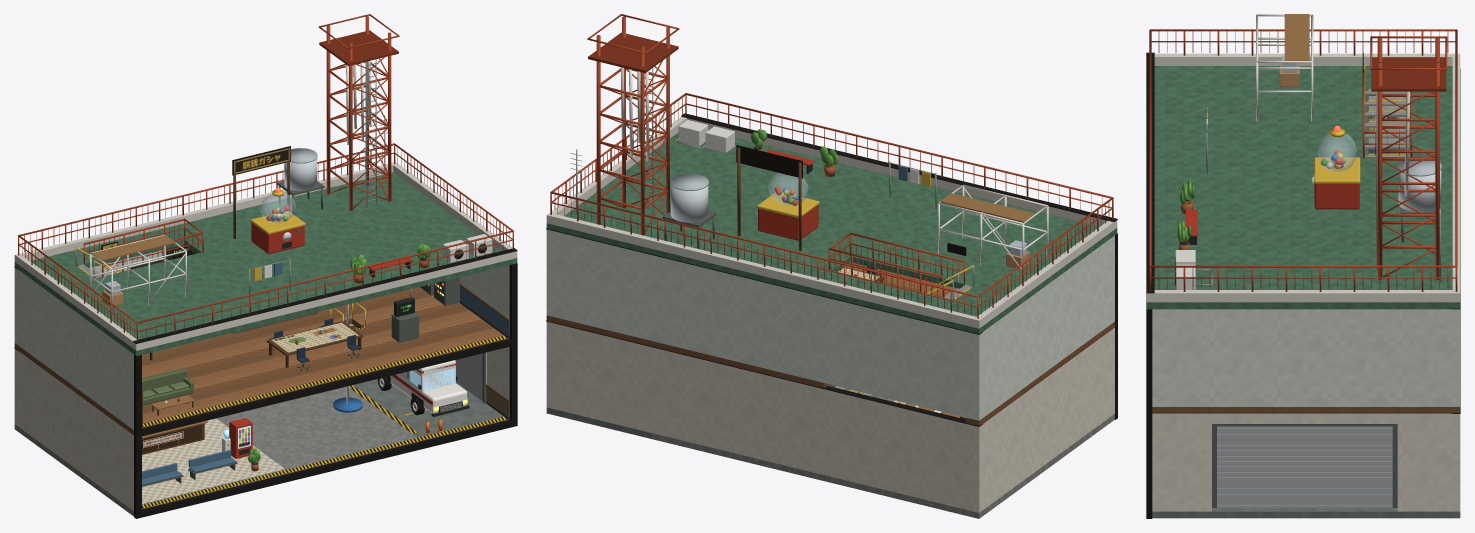
The picture shows the model from 3 angles, left to right: view 1: azimuth 30°, elevation 25°; view 2: azimuth 150°, elevation 25°; view 3: azimuth 270°, elevation 25°; orthographic projection. The views are drawn at different scales.
Parts seen in each view (by area): view 1: RF_mesh, F2_mesh, F1_mesh; view 2: RF_mesh, F1_mesh, F2_mesh; view 3: RF_mesh, F2_mesh, F1_mesh, ST2_mesh.
Boxes of the visible parts, left/top/right/bottom form: RF_mesh: left=14, top=14, right=517, bottom=355; F2_mesh: left=14, top=245, right=517, bottom=437; F1_mesh: left=14, top=324, right=517, bottom=518; RF_mesh: left=546, top=14, right=1117, bottom=333; F1_mesh: left=546, top=320, right=1117, bottom=518; F2_mesh: left=546, top=228, right=1117, bottom=425; RF_mesh: left=1146, top=14, right=1460, bottom=309; F2_mesh: left=1146, top=69, right=1460, bottom=414; F1_mesh: left=1146, top=309, right=1460, bottom=518; ST2_mesh: left=1363, top=66, right=1410, bottom=156.
Bounding box in the file's own units: 22.64 × 19.02 × 12.54.
105 materials, 27 textured.
